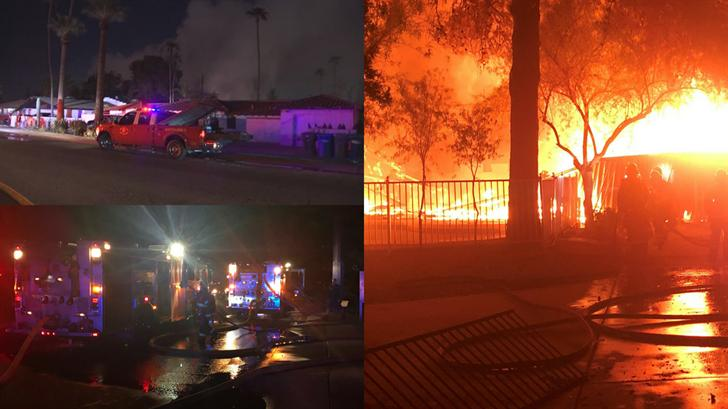fire: (588, 101, 723, 153), (374, 174, 507, 223)
